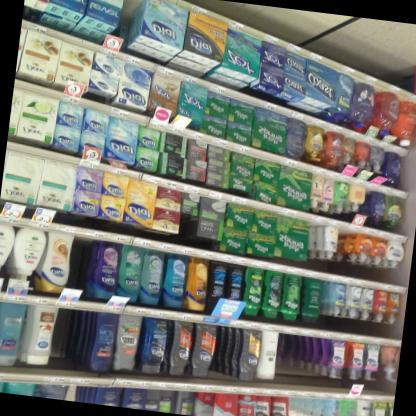empty_space: (50, 305, 90, 358), (67, 233, 97, 285)
